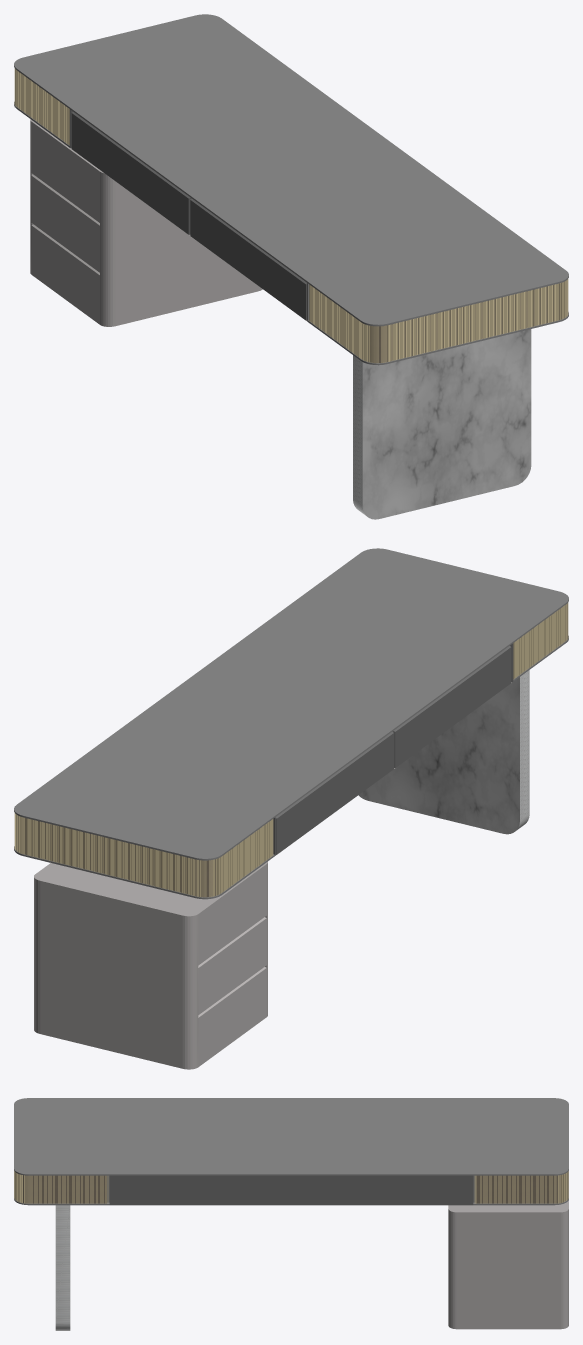
Rendered from desk_new.glb.
3 renders of one model, top to bottom at view 1: azimuth 30°, elevation 25°; view 2: azimuth 150°, elevation 25°; view 3: azimuth 270°, elevation 25°, orthographic. The views are drawn at different scales.
Parts seen in each view (by area): view 1: Material2 (×4), Material3 (×3); view 2: Material2 (×4), Material3 (×3); view 3: Material2 (×4), Material3 (×2).
Boxes of the visible parts, x1,y1,x2,y2 form: Material2 (×4): (14, 14, 568, 515); Material3 (×3): (14, 68, 568, 519); Material2 (×4): (14, 548, 568, 1069); Material3 (×3): (14, 603, 568, 897); Material2 (×4): (14, 1098, 568, 1330); Material3 (×2): (14, 1171, 568, 1205).
Size of the model in its own units: 27.1 by 27.74 by 83.19.
Materials: 7 (5 with a texture image).
